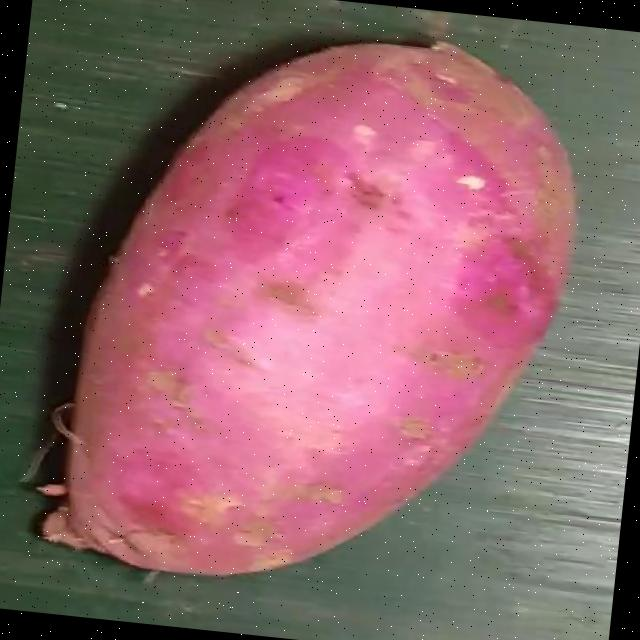Sweet Potato: (42, 41, 576, 580)
